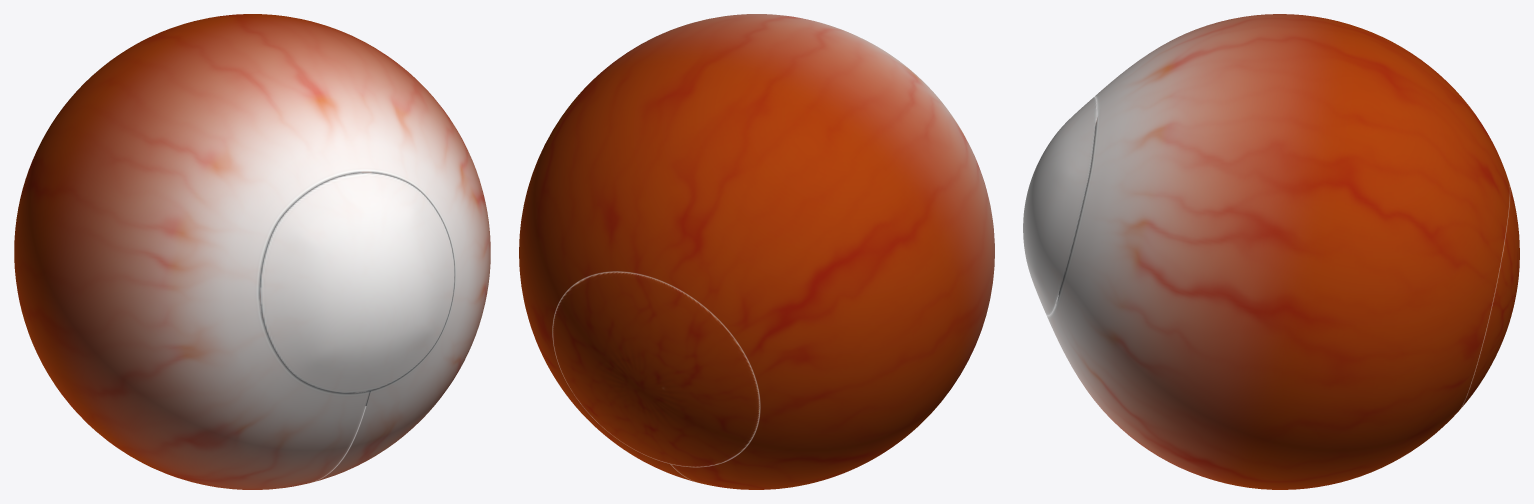
The model's file is eye-512.glb.
3 renders of one model, left to right at view 1: azimuth 30°, elevation 25°; view 2: azimuth 150°, elevation 25°; view 3: azimuth 270°, elevation 25°, orthographic.
Parts seen in each view (by area): view 1: Eye_0; view 2: Eye_0; view 3: Eye_0.
Part boxes in pixels (x1=…): Eye_0: x1=14, y1=14, x2=490, y2=489; Eye_0: x1=519, y1=14, x2=994, y2=489; Eye_0: x1=1023, y1=14, x2=1519, y2=489.
Size of the model in its own units: 1.95 by 1.95 by 2.04.
Materials: 2 (2 with a texture image).
